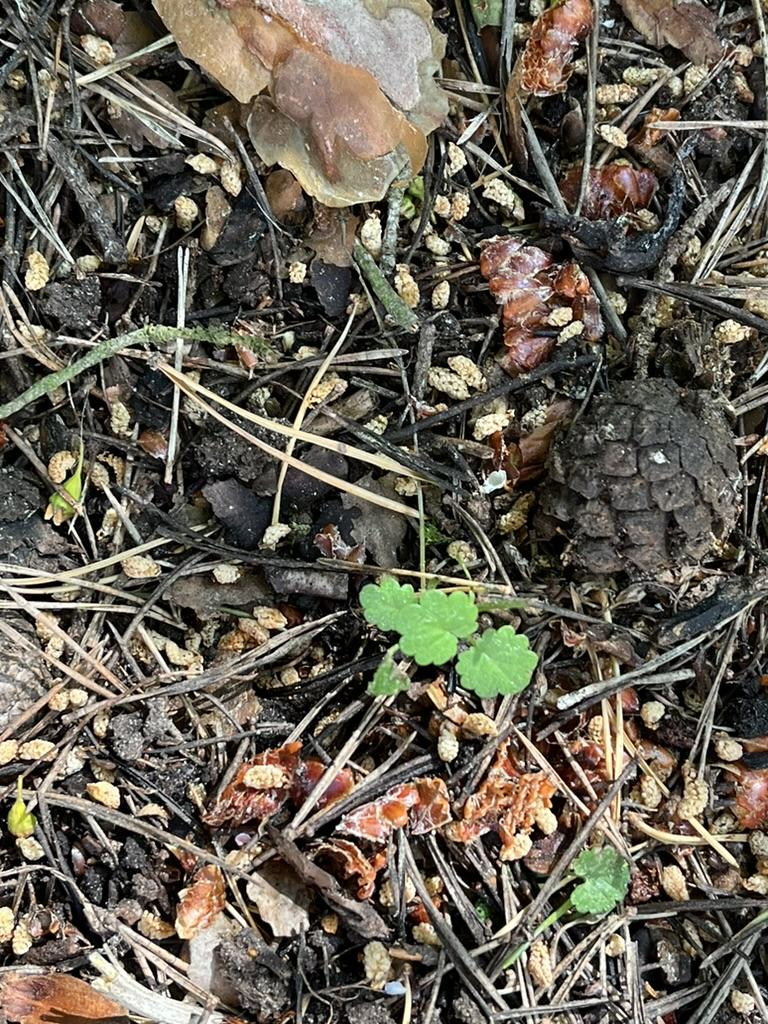pine: (528, 360, 761, 630), (0, 600, 53, 798)
